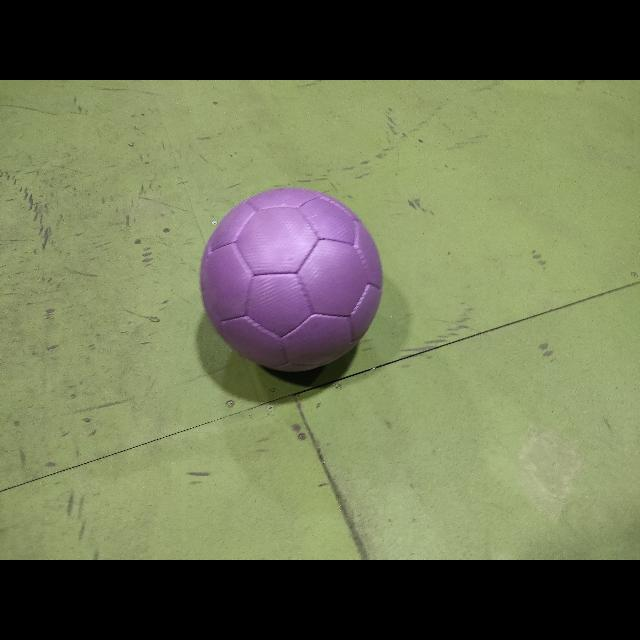P: (200, 188, 382, 370)
